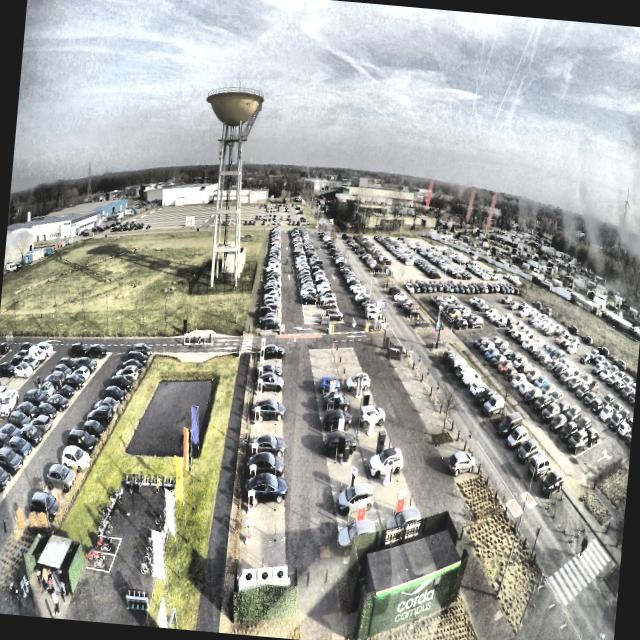cabinet: (241, 565, 287, 584)
car: (246, 471, 287, 508), (247, 452, 284, 478), (254, 397, 286, 421), (250, 435, 287, 455), (256, 370, 285, 392), (255, 362, 283, 377), (261, 343, 286, 358)
parking: (238, 539, 285, 571), (240, 508, 284, 542), (243, 481, 283, 511), (245, 460, 283, 485), (247, 442, 283, 463), (248, 423, 283, 443), (251, 408, 282, 425), (252, 394, 281, 408), (254, 382, 281, 395), (255, 371, 282, 382), (257, 350, 281, 361), (256, 361, 282, 371)
supercharger: (245, 520, 253, 542), (248, 490, 255, 511), (249, 464, 256, 483), (251, 443, 258, 458), (254, 407, 260, 424), (253, 424, 259, 439), (256, 392, 261, 406), (257, 379, 262, 392), (258, 367, 263, 378), (259, 357, 264, 367), (260, 347, 264, 357), (261, 338, 265, 347)
